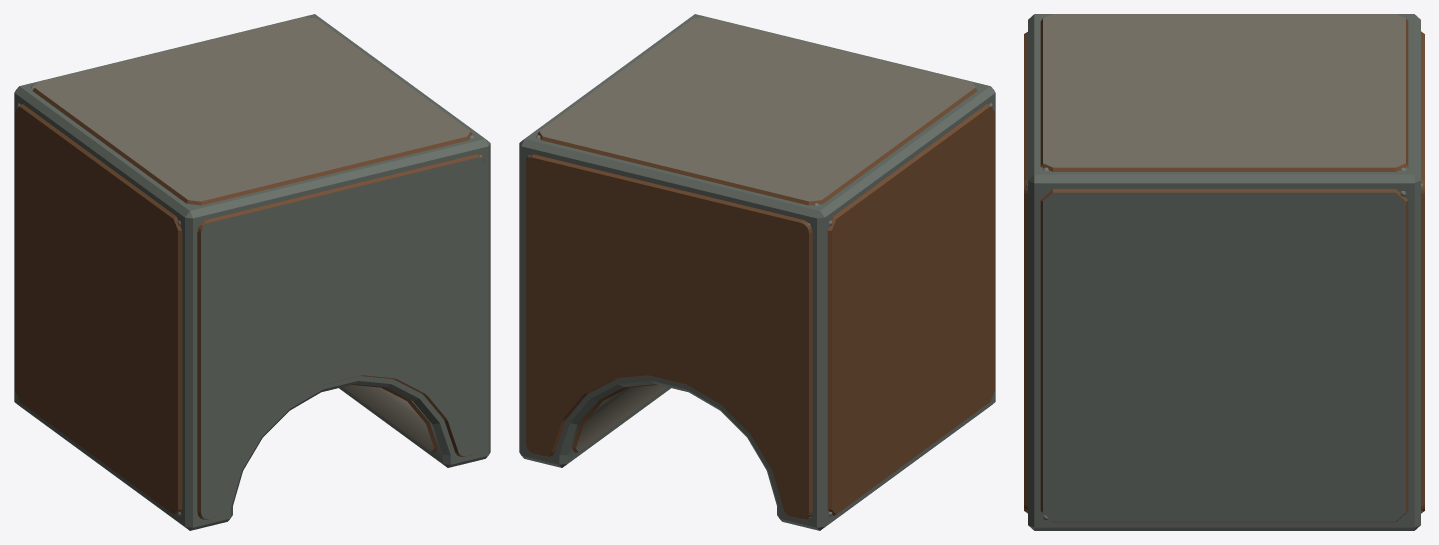
Rendered from R4B_Arch.fbx.
The picture shows the model from 3 angles, left to right: view 1: azimuth 30°, elevation 25°; view 2: azimuth 150°, elevation 25°; view 3: azimuth 270°, elevation 25°; orthographic projection. The views are drawn at different scales.
Parts seen in each view (by area): view 1: R4B_Arch; view 2: R4B_Arch; view 3: R4B_Arch.
Boxes of the visible parts, x1=… form: R4B_Arch: x1=14, y1=14, x2=490, y2=530; R4B_Arch: x1=519, y1=14, x2=995, y2=530; R4B_Arch: x1=1024, y1=14, x2=1424, y2=530.
Bounding box in the file's own units: 0.52 × 0.515 × 0.52.
